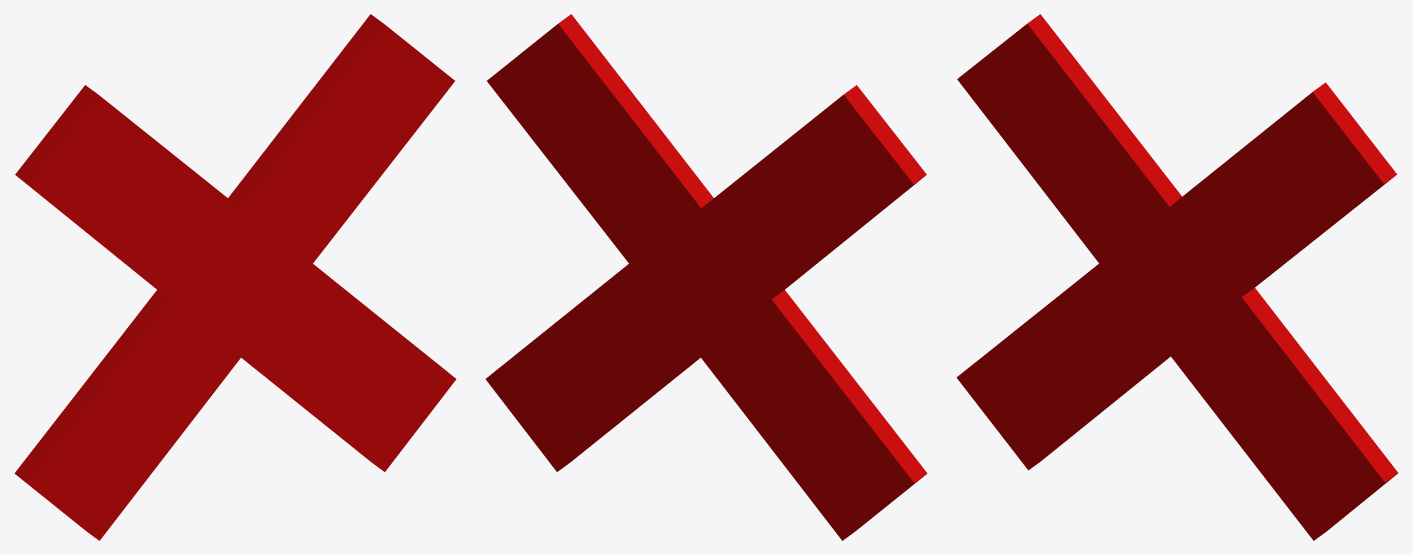
The model's file is gameover.obj.
The picture shows the model from 3 angles, left to right: view 1: azimuth 30°, elevation 25°; view 2: azimuth 150°, elevation 25°; view 3: azimuth 330°, elevation 25°; orthographic projection.
Parts seen in each view (by area): view 1: GameOver_Cube.002; view 2: GameOver_Cube.002; view 3: GameOver_Cube.002.
Part boxes in pixels (x1,y1,x2,y2): GameOver_Cube.002: (14, 14, 456, 540); GameOver_Cube.002: (485, 14, 927, 540); GameOver_Cube.002: (956, 14, 1398, 540).
Bounding box in the file's own units: 170 × 170 × 9.04.
